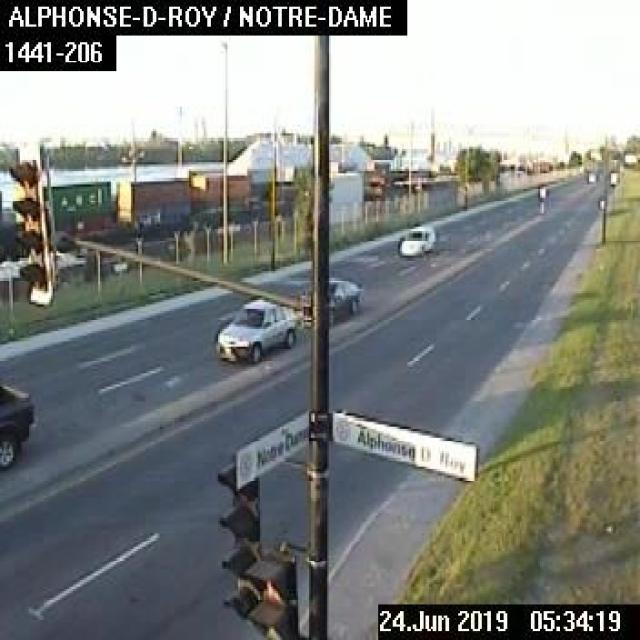vehicle: (211, 296, 302, 364), (0, 378, 33, 471), (296, 276, 356, 325), (398, 224, 435, 256), (536, 184, 553, 198)
